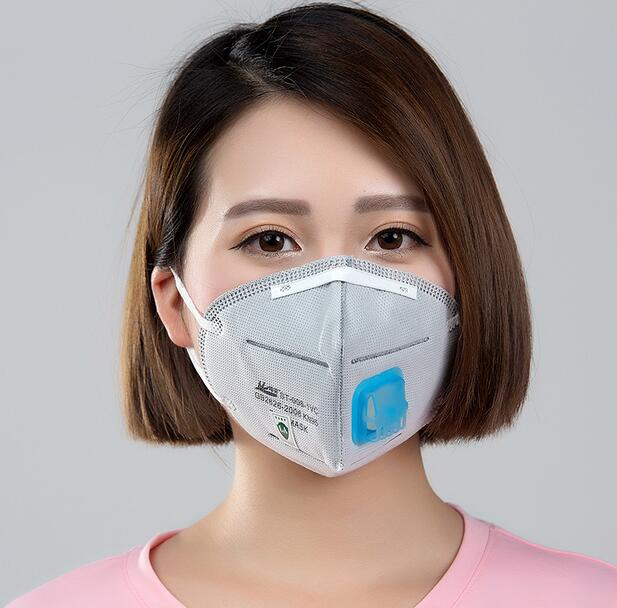n95: (176, 251, 470, 486)
